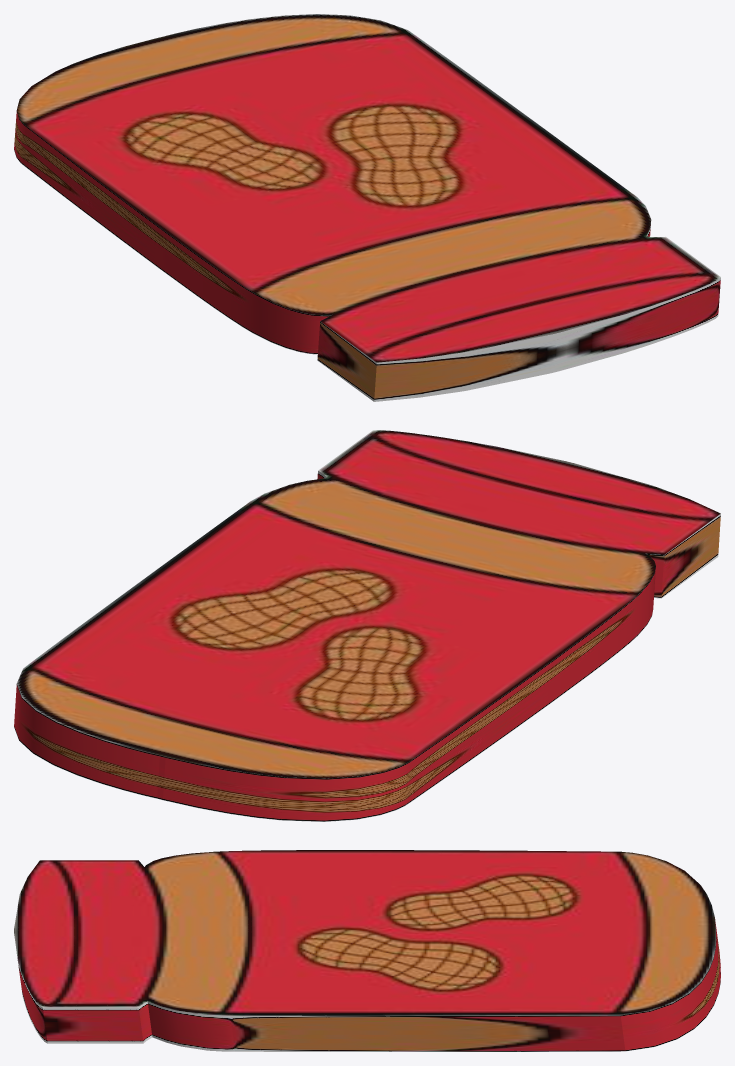
Rendered from jar1.obj.
3 views of the same model, one above another, from view 1: azimuth 30°, elevation 25°; view 2: azimuth 150°, elevation 25°; view 3: azimuth 270°, elevation 25° (orthographic). The views are drawn at different scales.
Parts seen in each view (by area): view 1: Spline_Object; view 2: Spline_Object; view 3: Spline_Object.
Boxes of the visible parts, left/top/right/bottom form: Spline_Object: left=14, top=14, right=720, bottom=401; Spline_Object: left=14, top=430, right=720, bottom=821; Spline_Object: left=14, top=850, right=720, bottom=1051.
Bounding box in the file's own units: 55.41 × 5.62 × 99.8.
3 materials, 3 textured.
